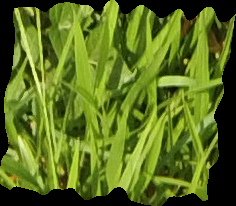grass: (1, 1, 234, 204)
